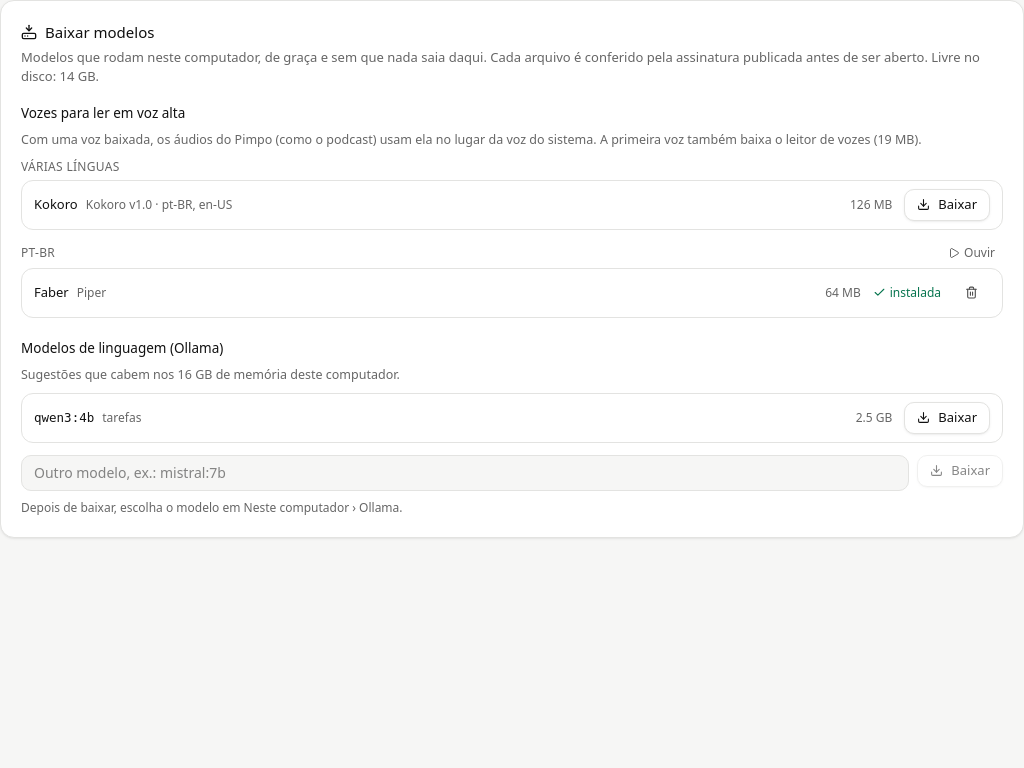
Test: Local models › asks with the size, then shows the download as it happens
The image size is (1024, 768).
Expected: the text "Faber" is shown, 34,283 -> 69,301
Expected: the text "instalada" is shown, 873,284 -> 941,302
Click the button "Baixar" next to "126 MB". click: (947, 204)
box: 904,188 -> 990,220
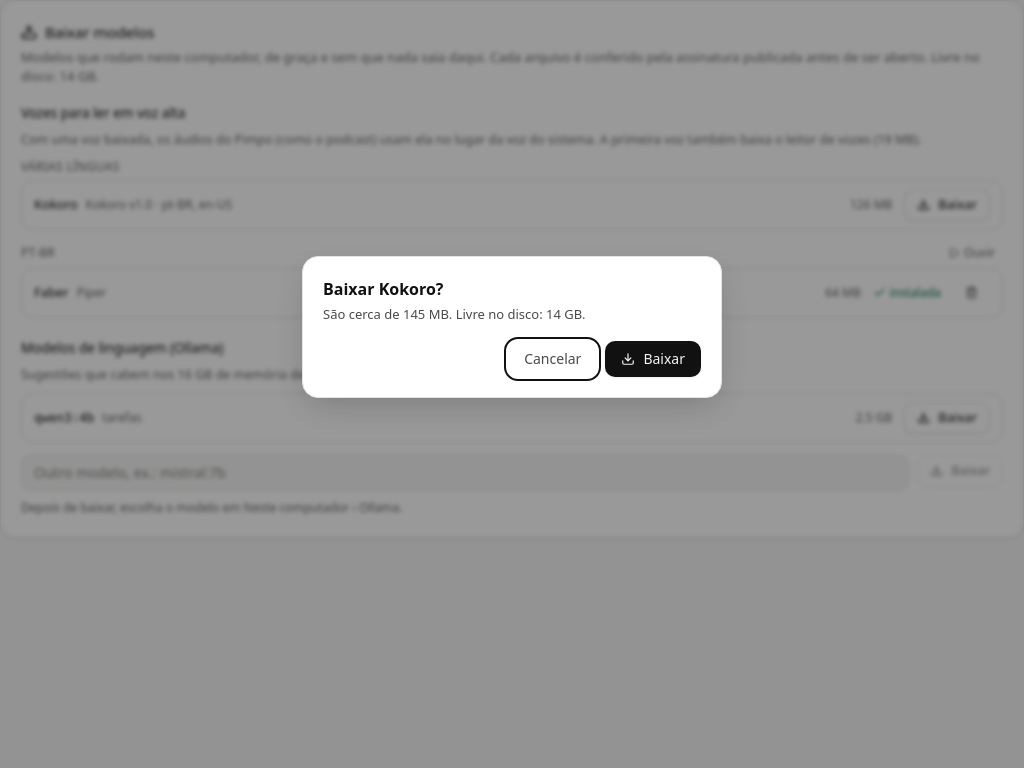
Expected: the heading "Baixar Kokoro?" is shown, 323,278 -> 444,300
Expected: the text "São cerca de 145 MB. Livre no disco: 14 GB." is shown, 323,305 -> 586,323
Click the button "Baixar". click: (653, 358)
box: 605,340 -> 701,376
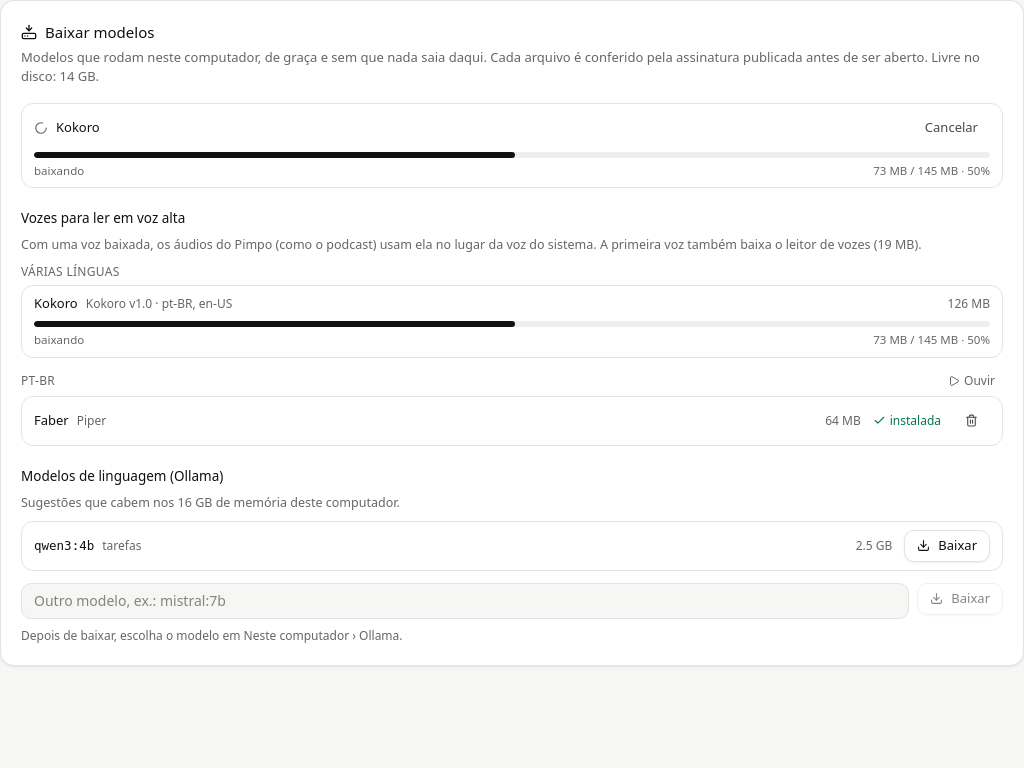
Expected: the 1st text "73 MB / 145 MB · 50%" is shown, 873,162 -> 990,179
